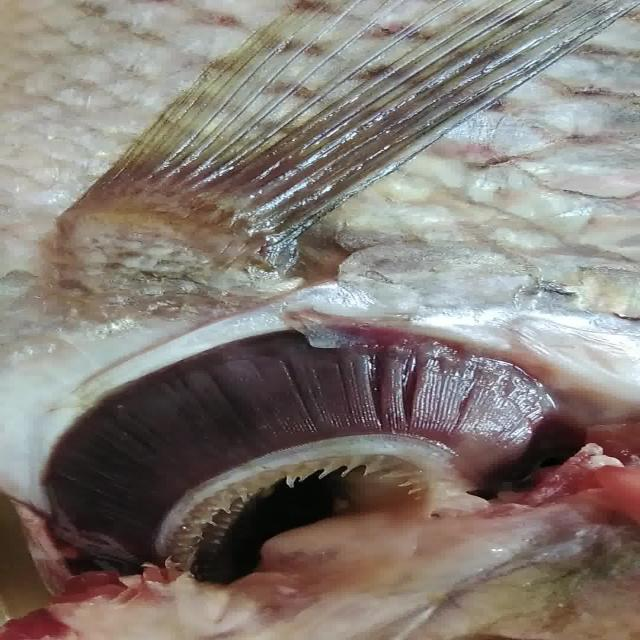Non-Fresh: (43, 317, 569, 552)
